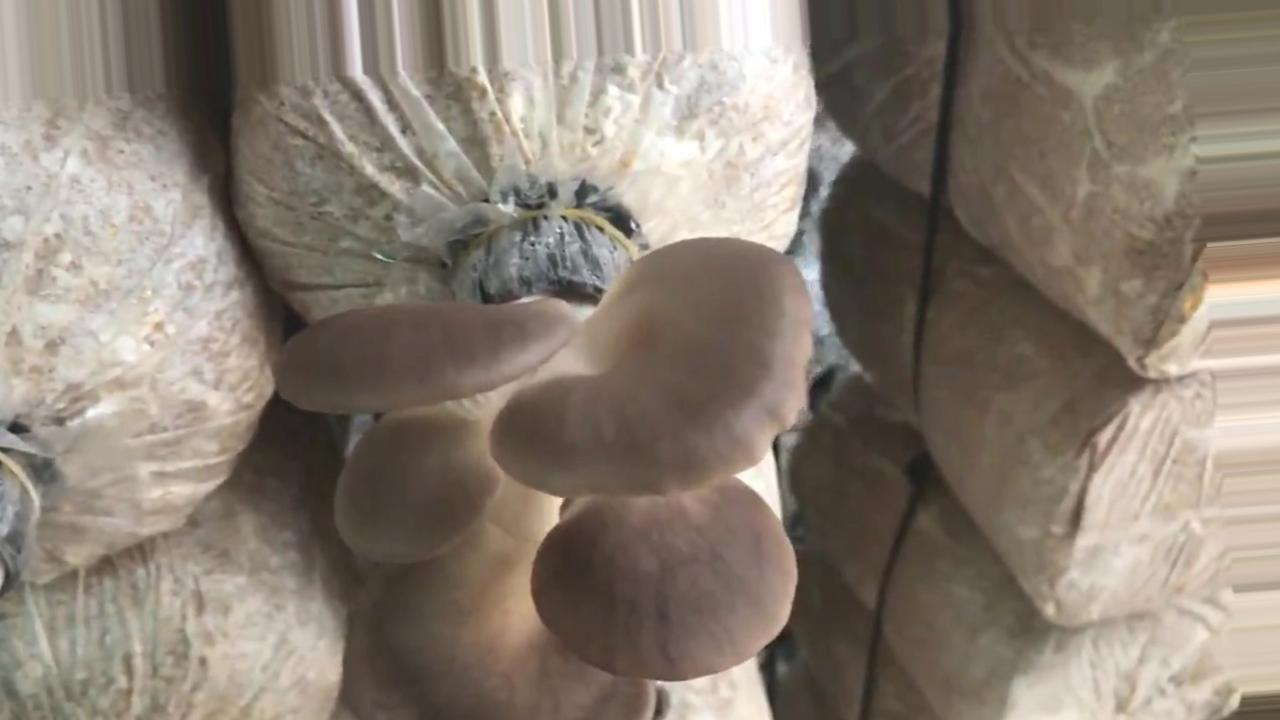nam: (277, 209, 813, 720)
